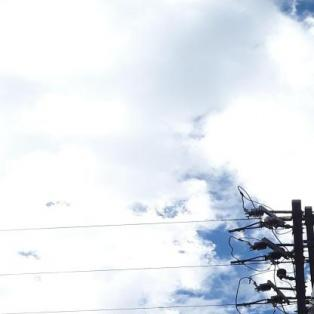Poste: (223, 230, 314, 314)
